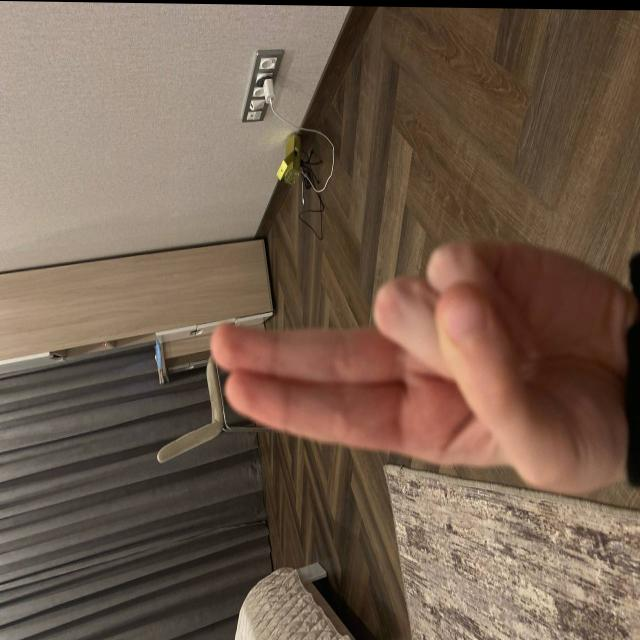ts: (173, 193, 610, 487)
